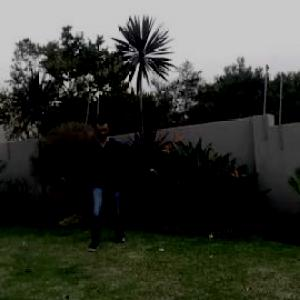land: (60, 107, 172, 249)
